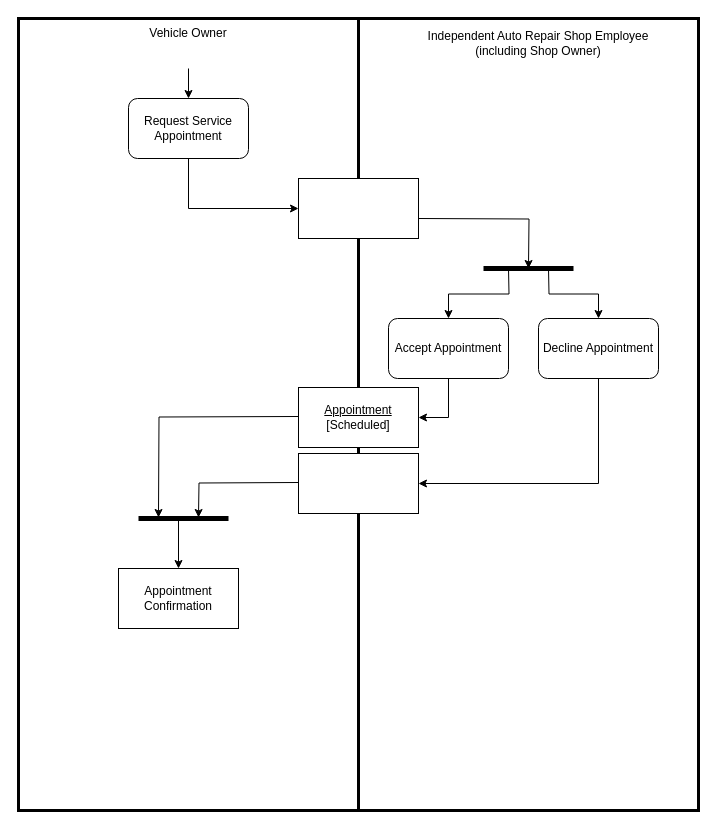
Image size: 717x829. Some labels were removed from this diagram. Each missing label, with the centre of its shape:
"Appointment [Declined]" belongs at [358,483].
"Appointment [Requested]" belongs at [358,208].
